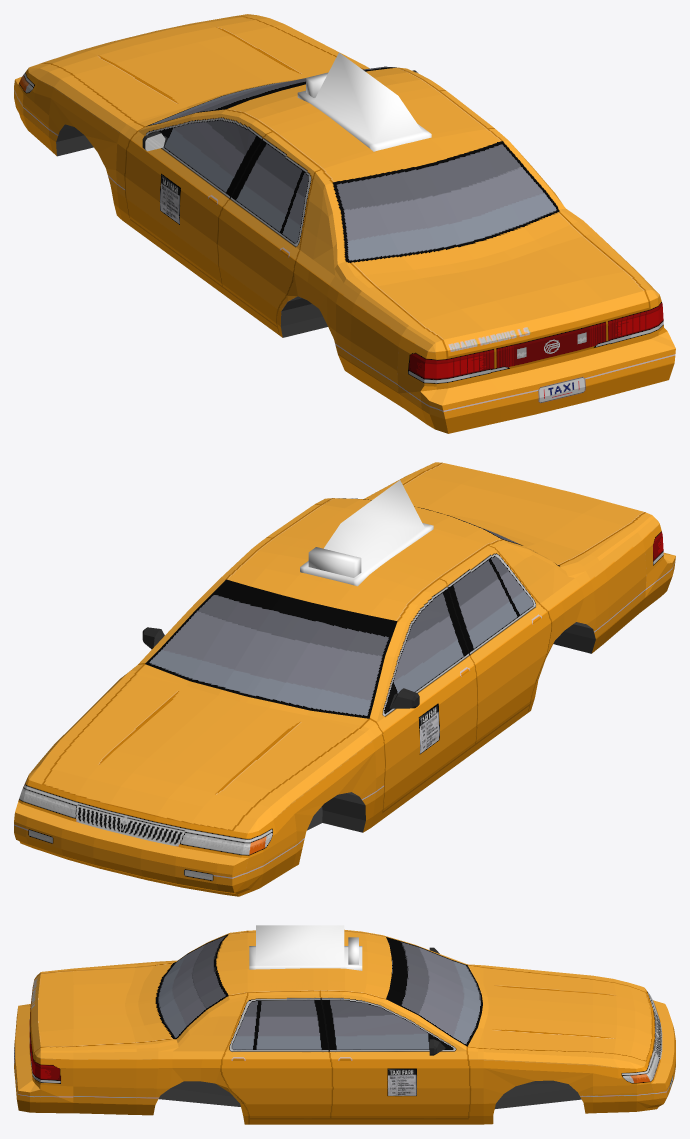
Rendered from 92mercurytaxi2.fbx.
The picture shows the model from 3 angles, top to bottom: view 1: azimuth 30°, elevation 25°; view 2: azimuth 150°, elevation 25°; view 3: azimuth 270°, elevation 25°; orthographic projection. The views are drawn at different scales.
Visible parts, largest first — view 1: grandmarquis; view 2: grandmarquis; view 3: grandmarquis.
Boxes of the visible parts, left/top/right/bottom form: grandmarquis: left=14, top=14, right=675, bottom=433; grandmarquis: left=14, top=462, right=675, bottom=896; grandmarquis: left=14, top=925, right=675, bottom=1124.
Size of the model in its own units: 2.04 by 1.47 by 5.74.
